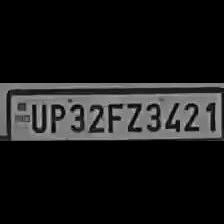1: (201, 99, 219, 131)
2: (85, 100, 105, 134), (180, 98, 200, 132)
3: (66, 100, 86, 134), (142, 98, 162, 132)
4: (162, 98, 182, 132)
F: (104, 99, 124, 133)
P: (46, 100, 66, 134)
U: (27, 100, 47, 134)
Z: (122, 99, 142, 133)
